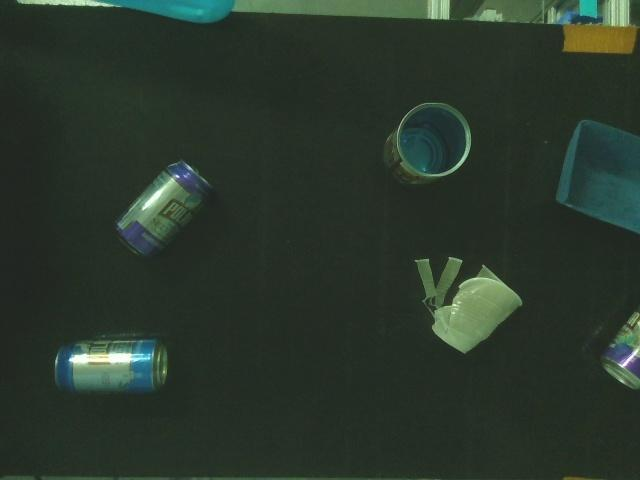cardboard: (552, 119, 640, 239)
metal: (107, 158, 218, 273), (378, 99, 476, 197), (44, 338, 178, 400), (599, 299, 640, 396)
plastic: (411, 254, 524, 356)
